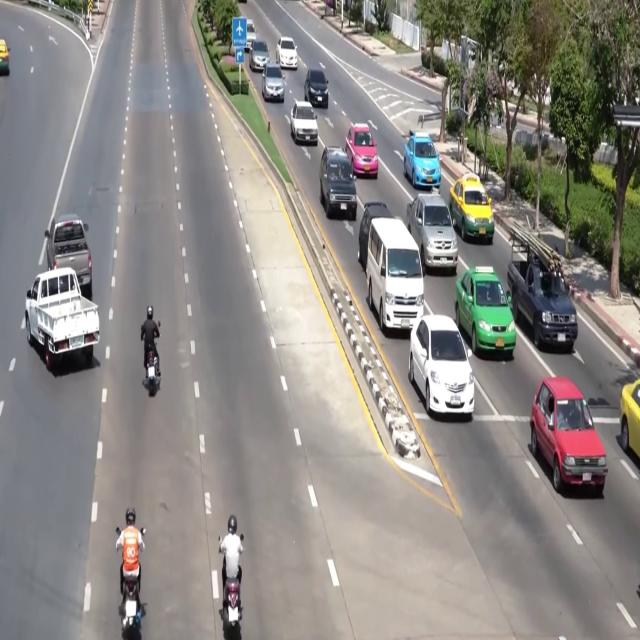car: (530, 377, 607, 496), (409, 315, 474, 419), (455, 266, 516, 357), (406, 192, 458, 274), (450, 172, 494, 243), (320, 147, 357, 221), (358, 201, 394, 271), (403, 130, 440, 189), (345, 122, 379, 178), (620, 379, 639, 455), (290, 100, 318, 145), (304, 69, 328, 107), (262, 63, 284, 102), (276, 37, 297, 69), (250, 40, 269, 71), (245, 19, 256, 51), (0, 40, 9, 75)
scooty: (120, 578, 143, 639), (222, 577, 241, 637), (144, 350, 160, 396)
truck: (508, 223, 577, 352), (25, 267, 99, 370), (45, 214, 92, 299)
